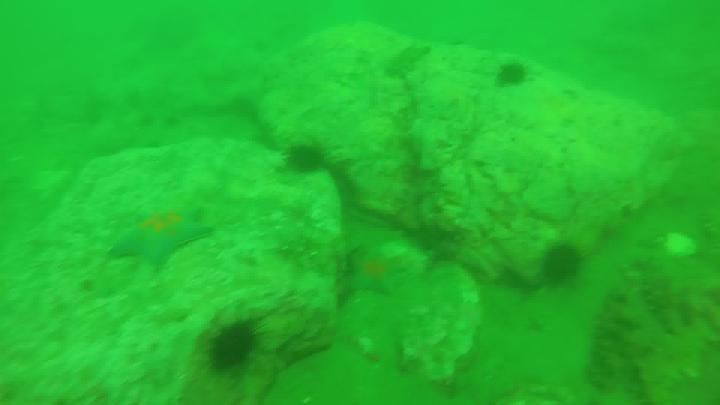echinus: (207, 318, 260, 373), (542, 241, 587, 286), (285, 137, 329, 178), (497, 61, 534, 89)
holothurian: (589, 287, 634, 394), (636, 253, 685, 337), (385, 45, 432, 75)
starfish: (114, 203, 213, 270), (351, 247, 408, 301)
